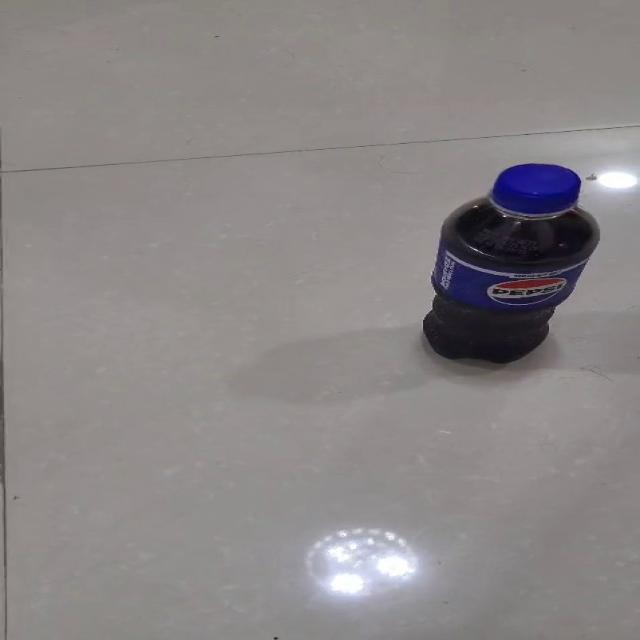plastic: (420, 162, 600, 364)
